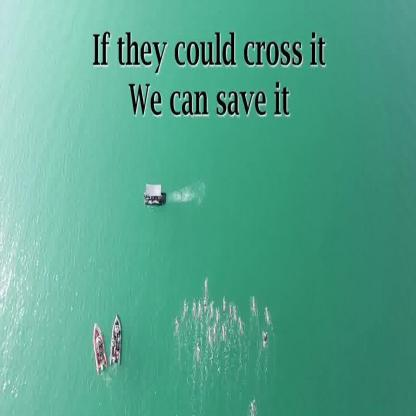Boat: (109, 312, 125, 368), (91, 319, 107, 373)
